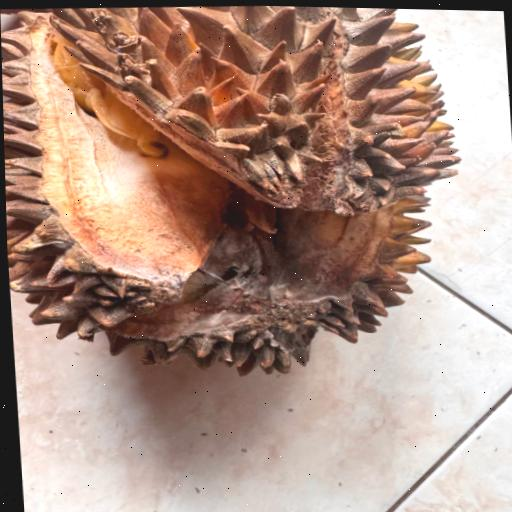rot: (0, 0, 484, 413)
